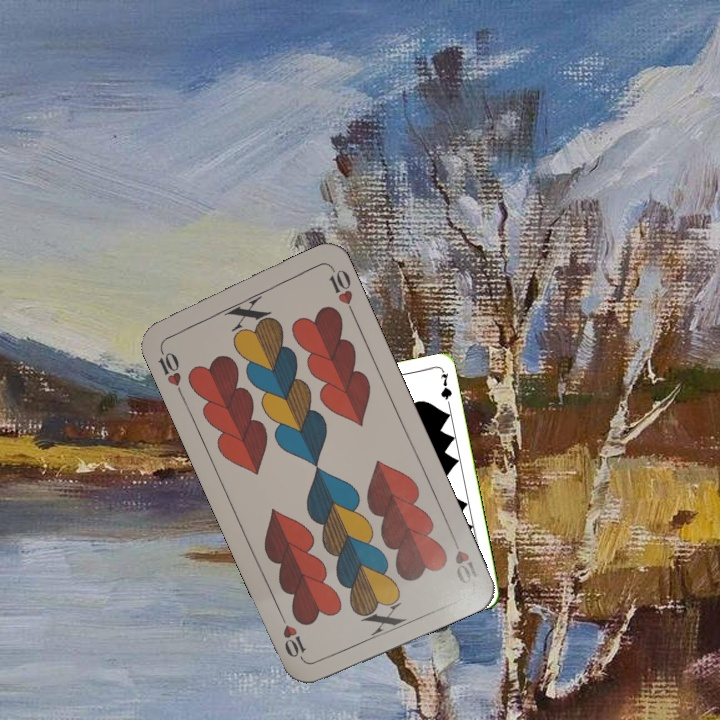H10: (447, 530, 482, 587), (154, 342, 185, 398)
